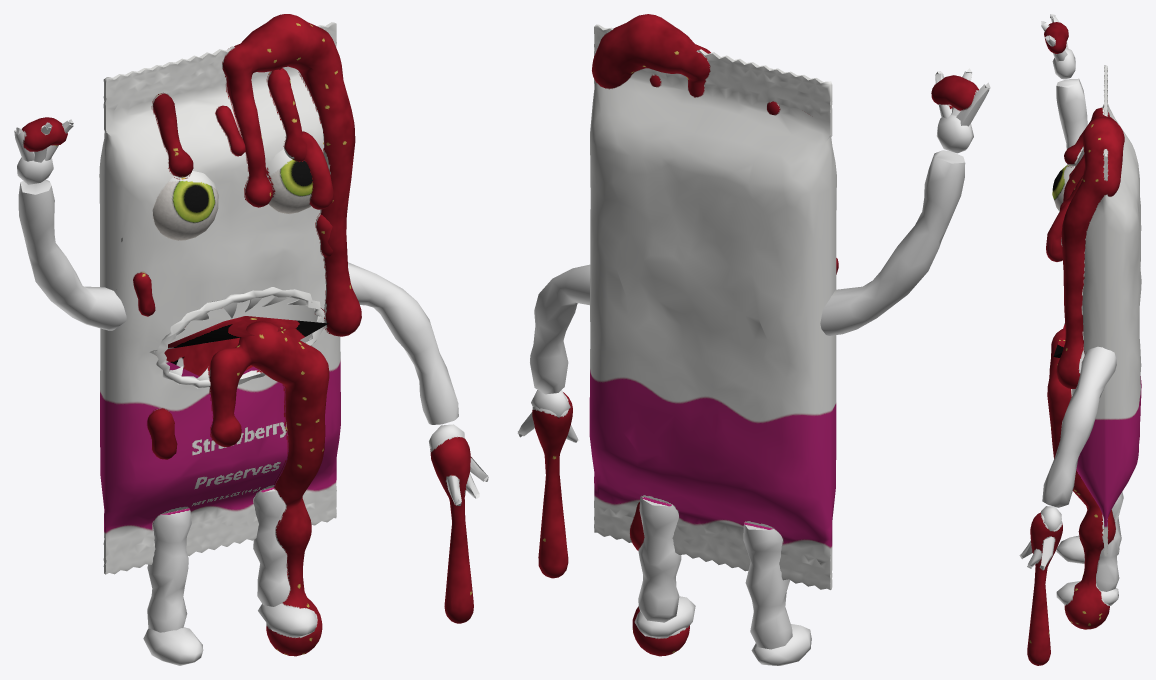
File: JAMMONSTER.glb
3 renders of one model, left to right at view 1: azimuth 30°, elevation 25°; view 2: azimuth 150°, elevation 25°; view 3: azimuth 270°, elevation 25°, orthographic. The views are drawn at different scales.
Visible parts, largest first — view 1: SM_JamPacketMonster; view 2: SM_JamPacketMonster; view 3: SM_JamPacketMonster.
Part boxes in pixels (left/top/right/bottom): SM_JamPacketMonster: left=14, top=14, right=488, bottom=665; SM_JamPacketMonster: left=517, top=14, right=990, bottom=665; SM_JamPacketMonster: left=1019, top=14, right=1141, bottom=665.
Bounding box in the file's own units: 0.0931 × 0.1199 × 0.0261.
1 material, 1 textured.
